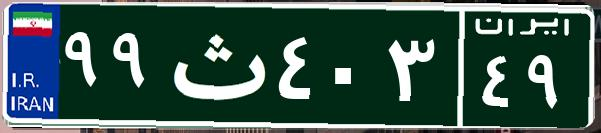0: (330, 28, 385, 110)
3: (385, 28, 445, 110)
4: (273, 28, 330, 110), (475, 38, 525, 113)
9: (57, 26, 110, 107), (110, 28, 158, 105), (525, 38, 570, 115)
ث: (158, 15, 273, 115)
